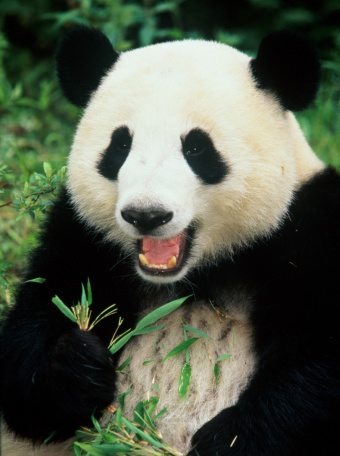panda: (32, 12, 340, 439)
